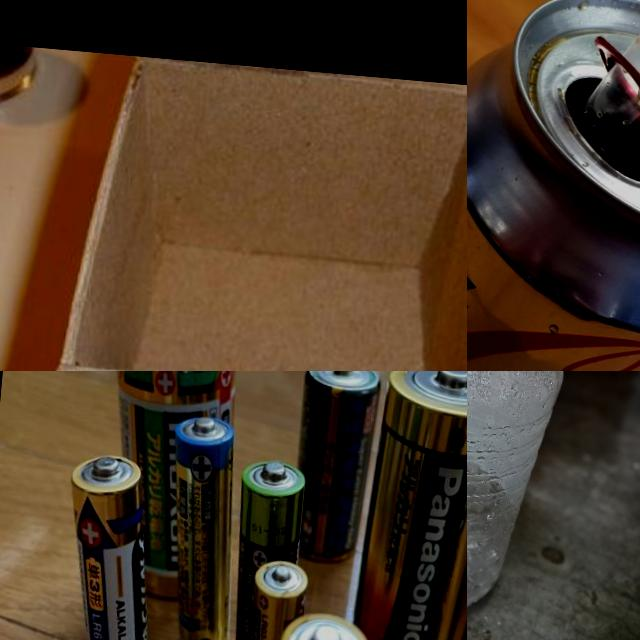aba de lata: (568, 23, 640, 168)
bateria: (91, 371, 246, 602), (350, 371, 467, 640), (49, 447, 174, 640), (155, 416, 249, 640), (281, 371, 384, 571), (219, 452, 313, 640), (234, 555, 312, 640)
garrafa plástica: (467, 371, 574, 625)
lata: (467, 0, 640, 371)
papelão: (41, 50, 467, 371)
